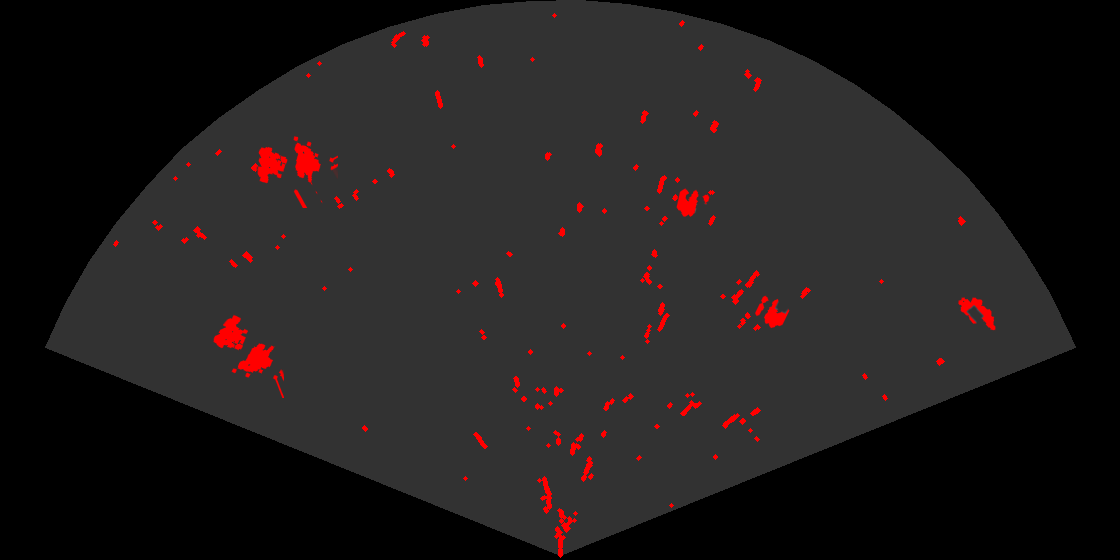AUV: (957, 296, 997, 332)
ball: (753, 294, 791, 330), (675, 187, 711, 218)
cage: (212, 313, 284, 398), (256, 135, 338, 208)
